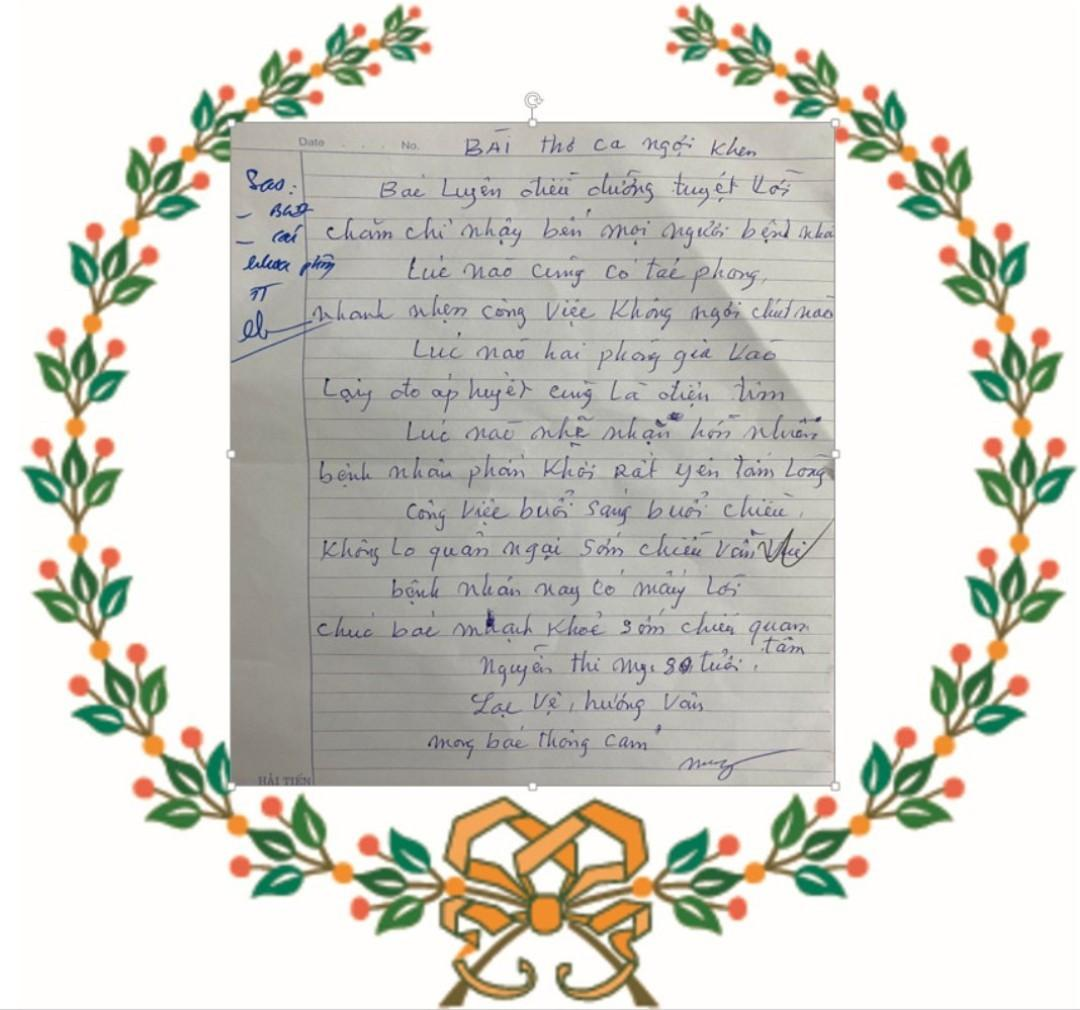text: (317, 521, 834, 577), (316, 447, 831, 494), (324, 204, 839, 250), (317, 367, 789, 417), (313, 604, 811, 649), (377, 164, 813, 214), (309, 291, 836, 331), (403, 486, 793, 536), (403, 410, 824, 451), (404, 250, 770, 296), (387, 563, 750, 609), (410, 333, 781, 377), (470, 646, 746, 691), (426, 720, 666, 767), (456, 129, 761, 163), (469, 683, 709, 724), (674, 740, 804, 786), (237, 304, 327, 367), (240, 246, 339, 284), (240, 161, 299, 200), (270, 197, 317, 226), (243, 274, 283, 304), (267, 221, 304, 253), (760, 636, 804, 660), (294, 134, 329, 150), (400, 137, 417, 154)
